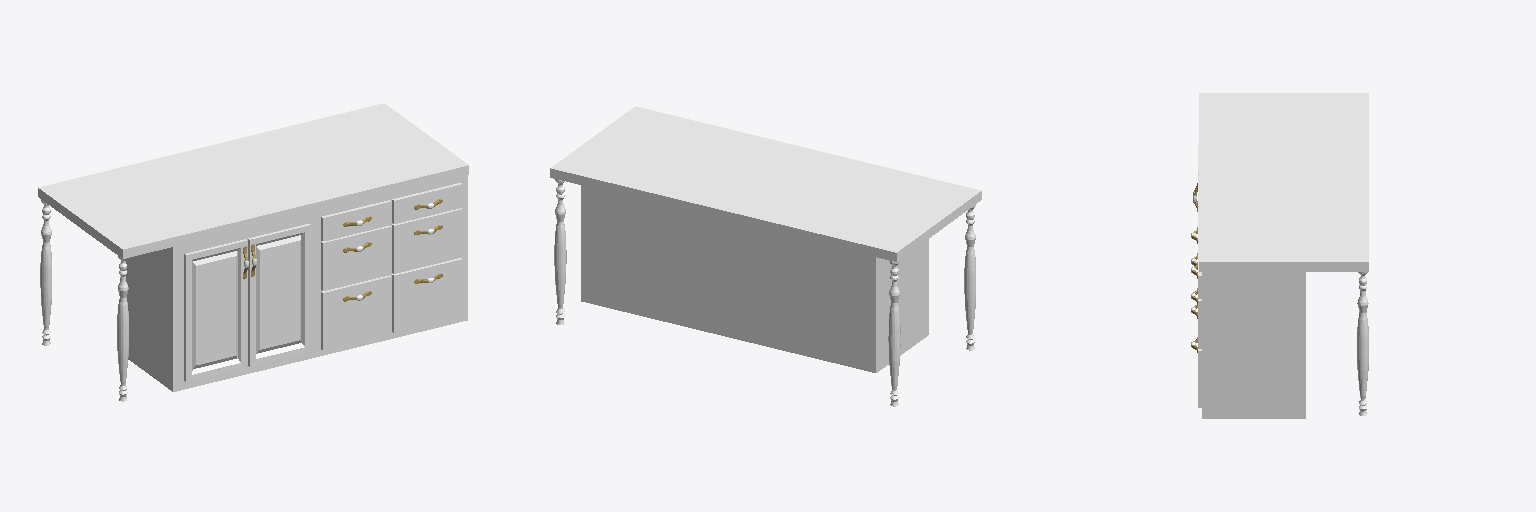
Rendered from kitchenIsland.obj.
3 views of the same model, side by side, from view 1: azimuth 30°, elevation 25°; view 2: azimuth 150°, elevation 25°; view 3: azimuth 270°, elevation 25° (orthographic).
Visible parts, largest first — view 1: PolyMesh_2, PolyMesh_1, PolyMesh_1_2, PolyMesh_1_1, Cube_3_5, Cube_3, Cube_3_4, Cube_3_1, Cube_3_3, Cube_3_2, Lathed_Object_3_2, Lathed_Object_3_1; view 2: PolyMesh_1, PolyMesh_2, Lathed_Object_3, Lathed_Object_3_1, Lathed_Object_3_2; view 3: PolyMesh_2, PolyMesh_1, Lathed_Object_3.
Part boxes in pixels (x1,y1,x2,y2): PolyMesh_2: (38,103,468,258); PolyMesh_1: (126,175,467,391); PolyMesh_1_2: (184,239,247,381); PolyMesh_1_1: (248,224,311,366); Cube_3_5: (392,258,462,332); Cube_3: (321,275,391,350); Cube_3_4: (392,208,462,273); Cube_3_1: (321,226,391,290); Cube_3_3: (392,183,462,223); Cube_3_2: (321,200,391,241); Lathed_Object_3_2: (117,256,128,401); Lathed_Object_3_1: (40,200,51,345); PolyMesh_1: (581,185,928,372); PolyMesh_2: (550,106,981,261); Lathed_Object_3: (554,179,566,324); Lathed_Object_3_1: (888,260,900,406); Lathed_Object_3_2: (964,205,975,350); PolyMesh_2: (1199,93,1368,271); PolyMesh_1: (1202,272,1305,418); Lathed_Object_3: (1357,272,1368,415).
Size of the model in its own units: 4.32 by 1.86 by 1.93.